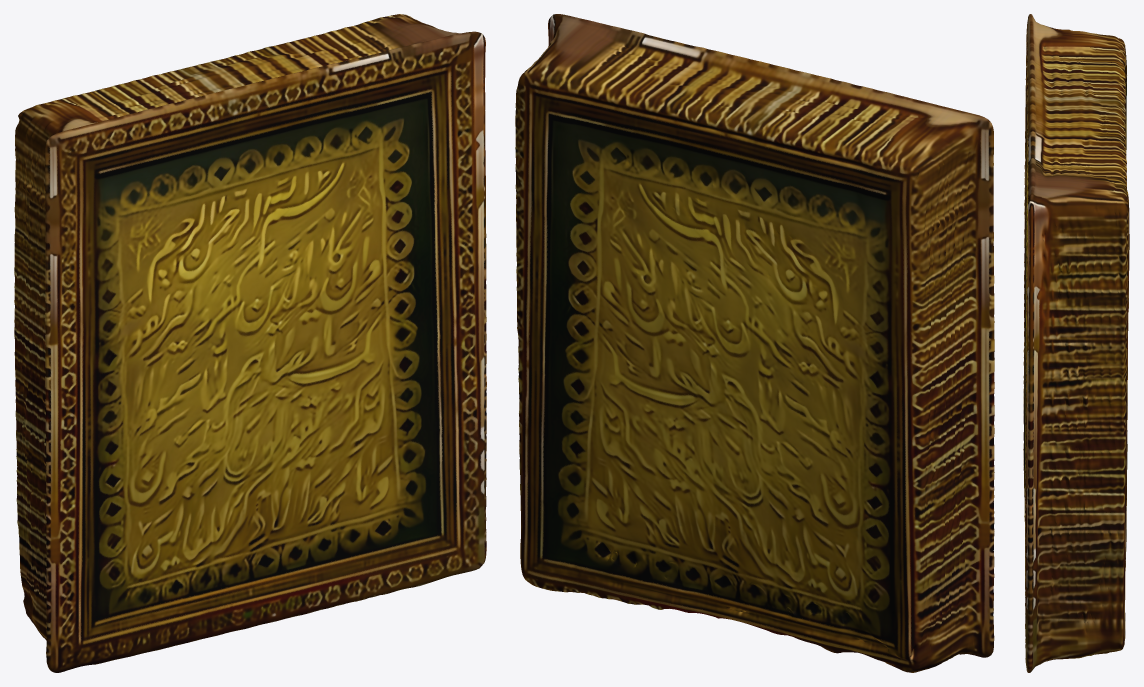
File: kfl-2276.glb
3 renders of one model, left to right at view 1: azimuth 30°, elevation 25°; view 2: azimuth 150°, elevation 25°; view 3: azimuth 270°, elevation 25°, orthographic. The views are drawn at different scales.
Visible parts, largest first — view 1: kfl-2276; view 2: kfl-2276; view 3: kfl-2276.
Part boxes in pixels (x1,y1,x2,y2): kfl-2276: (14,14,486,672); kfl-2276: (515,14,994,672); kfl-2276: (1023,14,1129,672).
Bounding box in the file's own units: 0.8511 × 0.9972 × 0.1996.
Materials: 1 (1 with a texture image).
